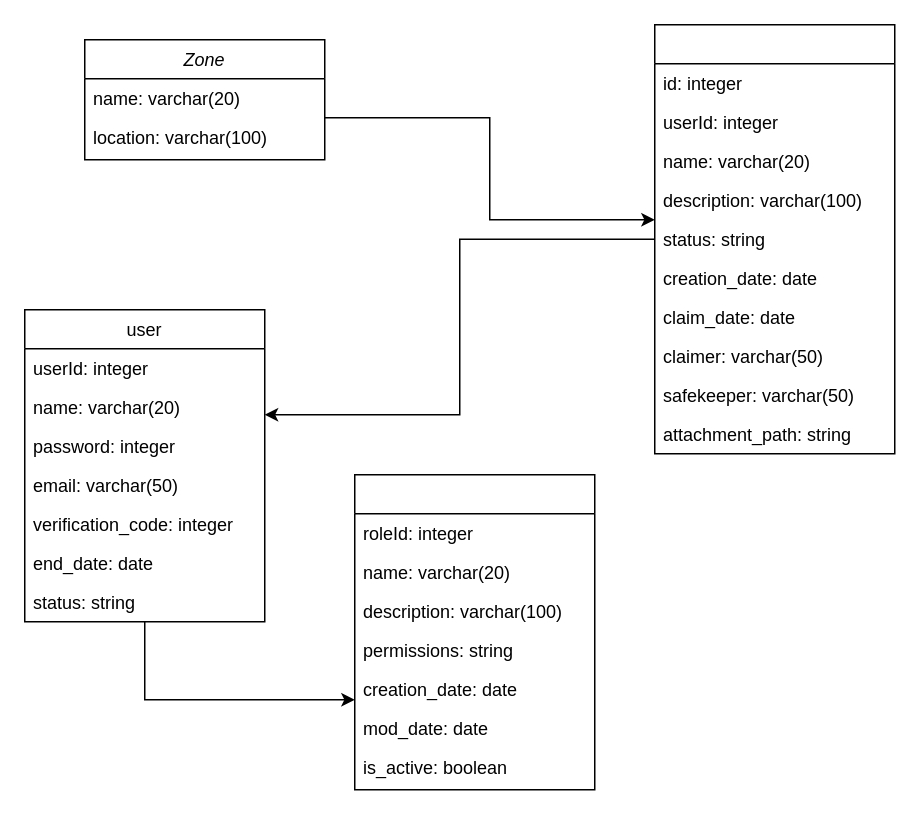
This 920x815 diagram has some shape labels left out. The box of each missing label's shape, as (x1, y1, x2, y2) in pixels:
object_lost: (653, 23, 895, 454)
roles: (353, 473, 595, 790)
